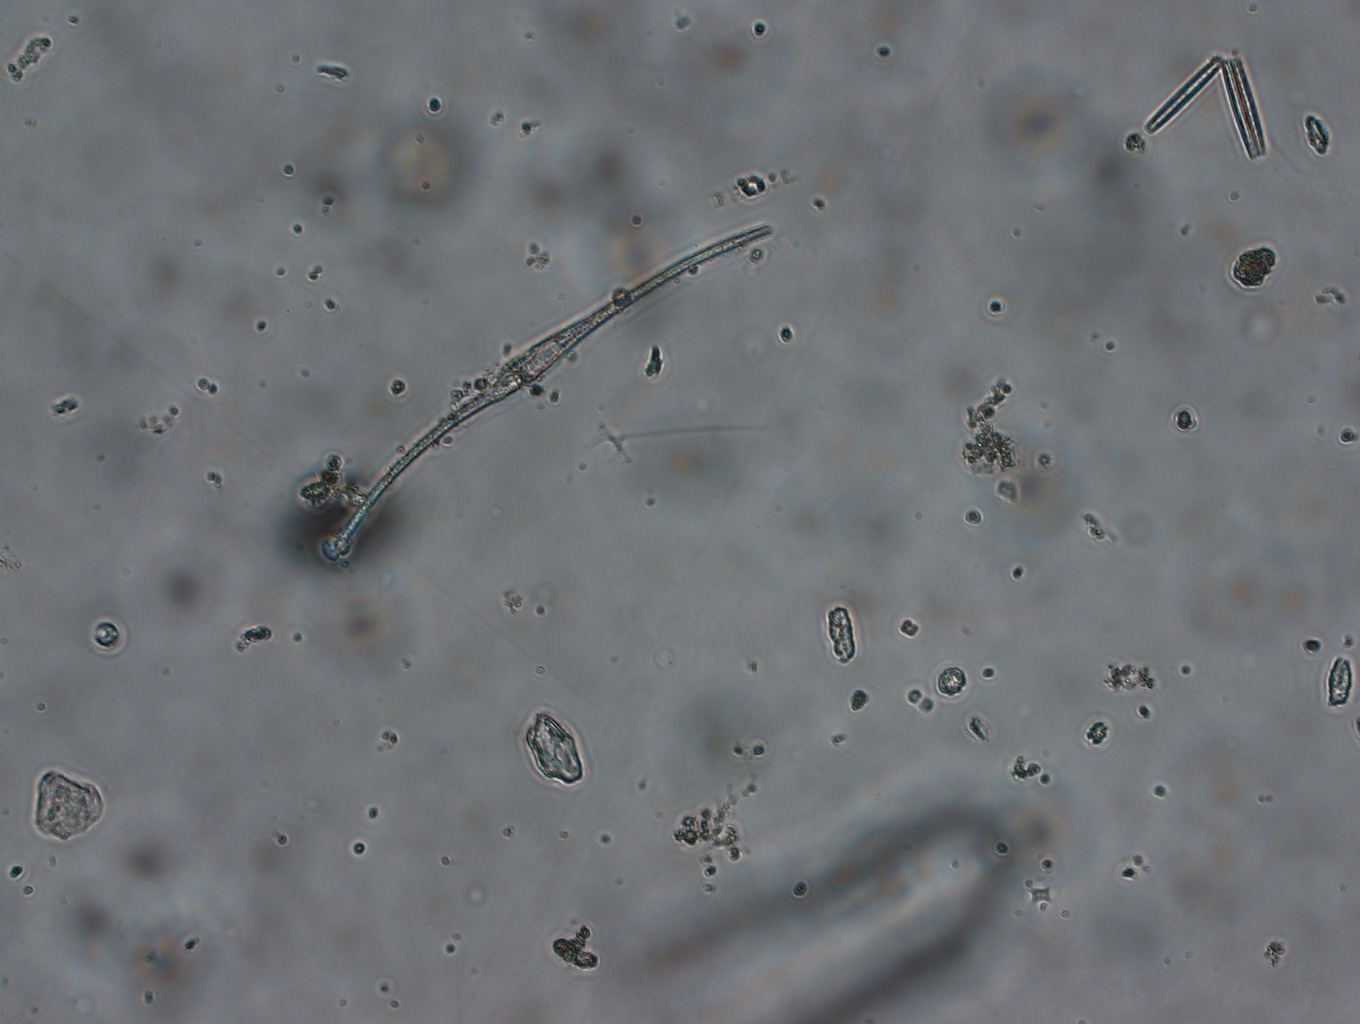ceratium fusus: (325, 212, 776, 553)
thalassionema nitzschioides: (1143, 45, 1273, 167)
